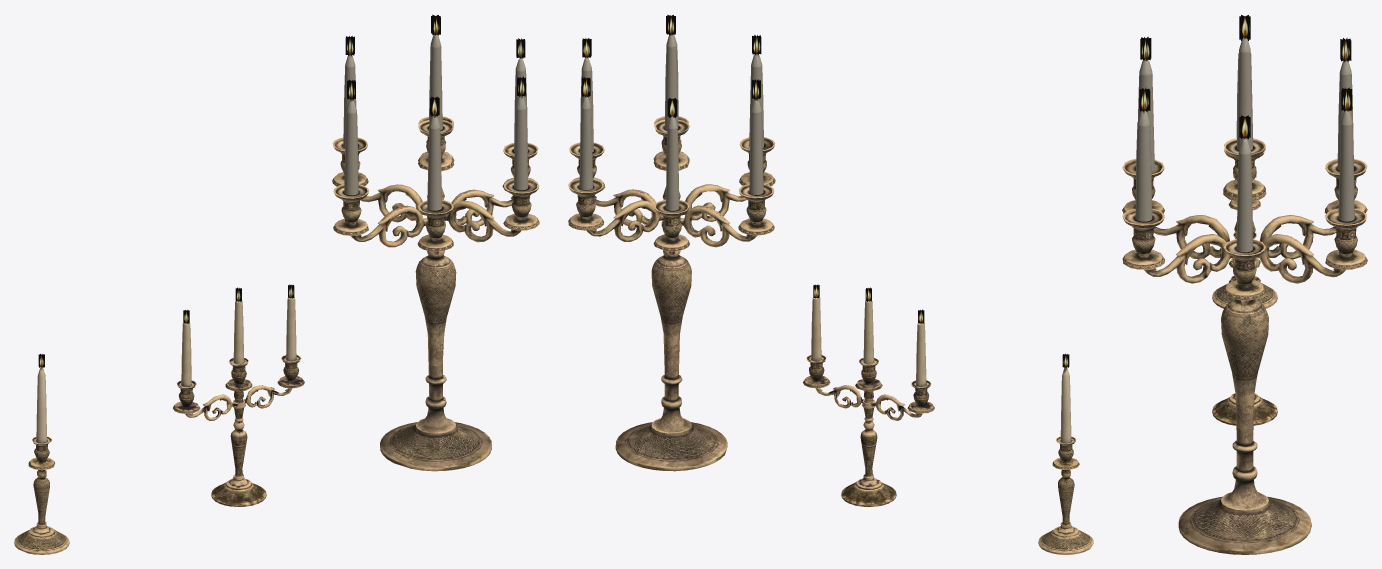
File: brass_candleholders.glb
3 views of the same model, side by side, from view 1: azimuth 30°, elevation 25°; view 2: azimuth 150°, elevation 25°; view 3: azimuth 270°, elevation 25° (orthographic). The views are drawn at different scales.
Parts seen in each view (by area): view 1: brass_candleholder_03, brass_candleholder_02, brass_candleholder_01; view 2: brass_candleholder_03, brass_candleholder_02, brass_candleholder_01; view 3: brass_candleholder_03, brass_candleholder_02, brass_candleholder_01.
Part boxes in pixels (bbox=[...]): brass_candleholder_03: bbox=[38, 14, 539, 471]; brass_candleholder_02: bbox=[173, 297, 304, 506]; brass_candleholder_01: bbox=[14, 367, 69, 554]; brass_candleholder_03: bbox=[568, 14, 1069, 471]; brass_candleholder_02: bbox=[803, 297, 934, 506]; brass_candleholder_01: bbox=[1038, 367, 1093, 554]; brass_candleholder_03: bbox=[1122, 15, 1367, 554]; brass_candleholder_02: bbox=[1212, 232, 1277, 425]; brass_candleholder_01: bbox=[1212, 175, 1277, 308].
Size of the model in its own units: 1.05 by 0.8353 by 0.3645.
5 materials, 5 textured.
